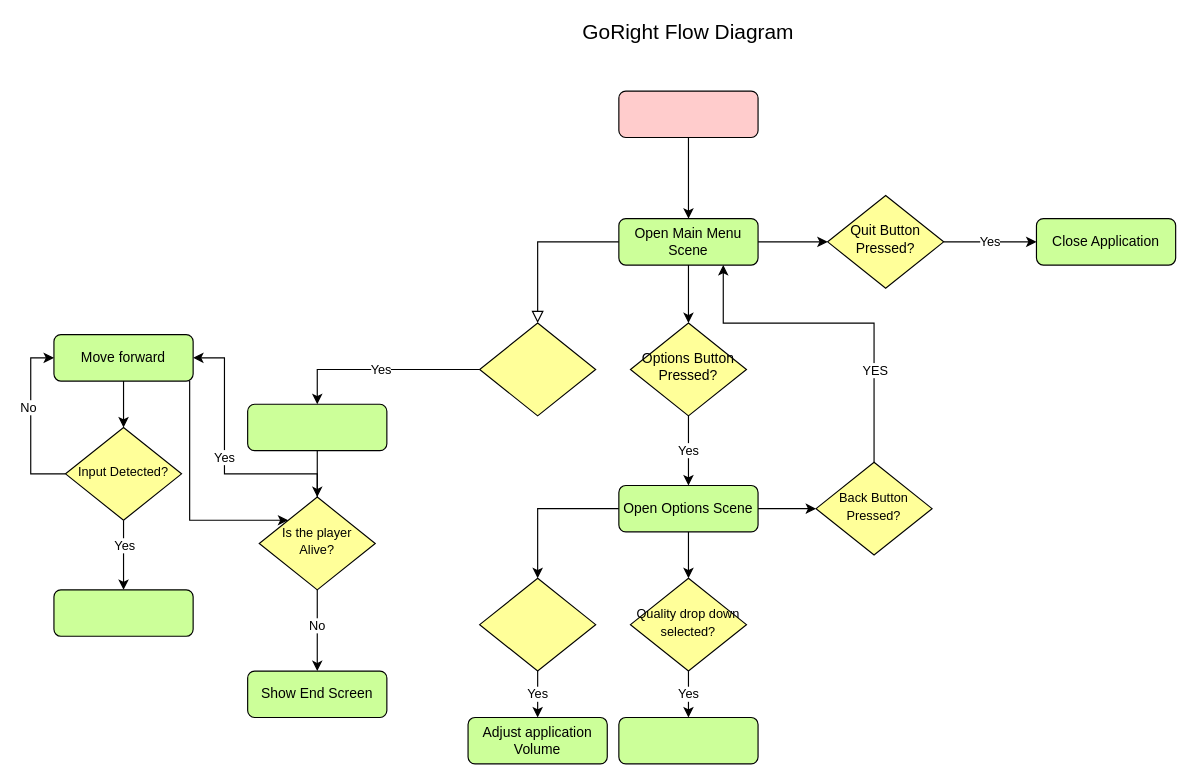
This 1196x784 diagram has some shape labels left out. The shapes that lost their labels are listed below. From the top down, each one's centre as x and y in pixels, then its label:
At (x=688, y=113): "Game Start".
At (x=537, y=369): "Play Button Pressed?".
At (x=316, y=427): "Open Level".
At (x=123, y=612): "Jump".
At (x=537, y=624): "Master volume Slider Adjusted?".
At (x=688, y=740): "Change Application Quality".
